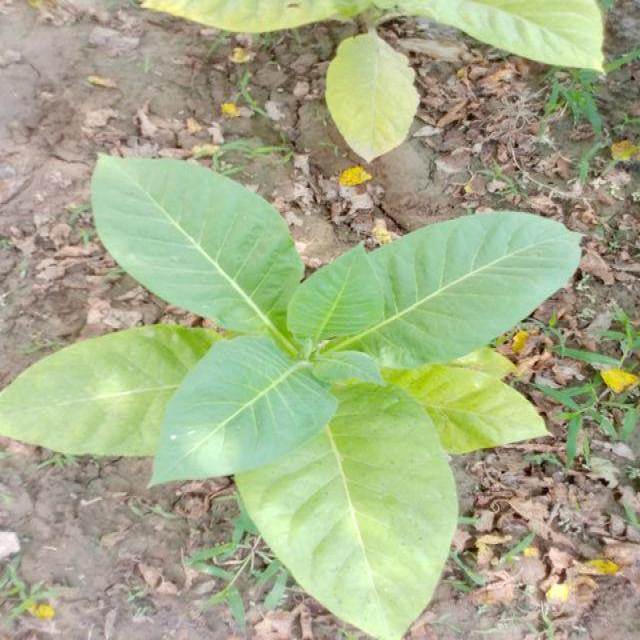crop: (5, 157, 581, 640)
